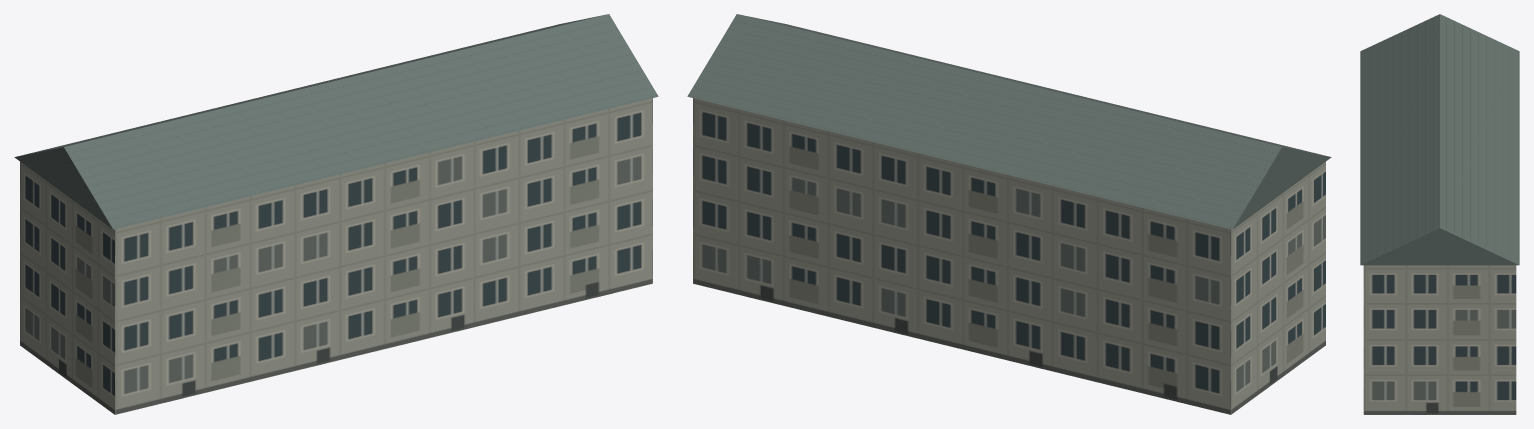
File: kyiv_khrushchyovka_03.obj
3 renders of one model, left to right at view 1: azimuth 30°, elevation 25°; view 2: azimuth 150°, elevation 25°; view 3: azimuth 270°, elevation 25°, orthographic. The views are drawn at different scales.
Parts seen in each view (by area): view 1: kyiv_khrushchyovka_03; view 2: kyiv_khrushchyovka_03; view 3: kyiv_khrushchyovka_03.
Part boxes in pixels (left/top/right/bottom): kyiv_khrushchyovka_03: left=14, top=14, right=658, bottom=414; kyiv_khrushchyovka_03: left=687, top=14, right=1331, bottom=414; kyiv_khrushchyovka_03: left=1360, top=14, right=1519, bottom=414.
Bounding box in the file's own units: 36.5 × 14.97 × 11.5.
1 material, 1 textured.
